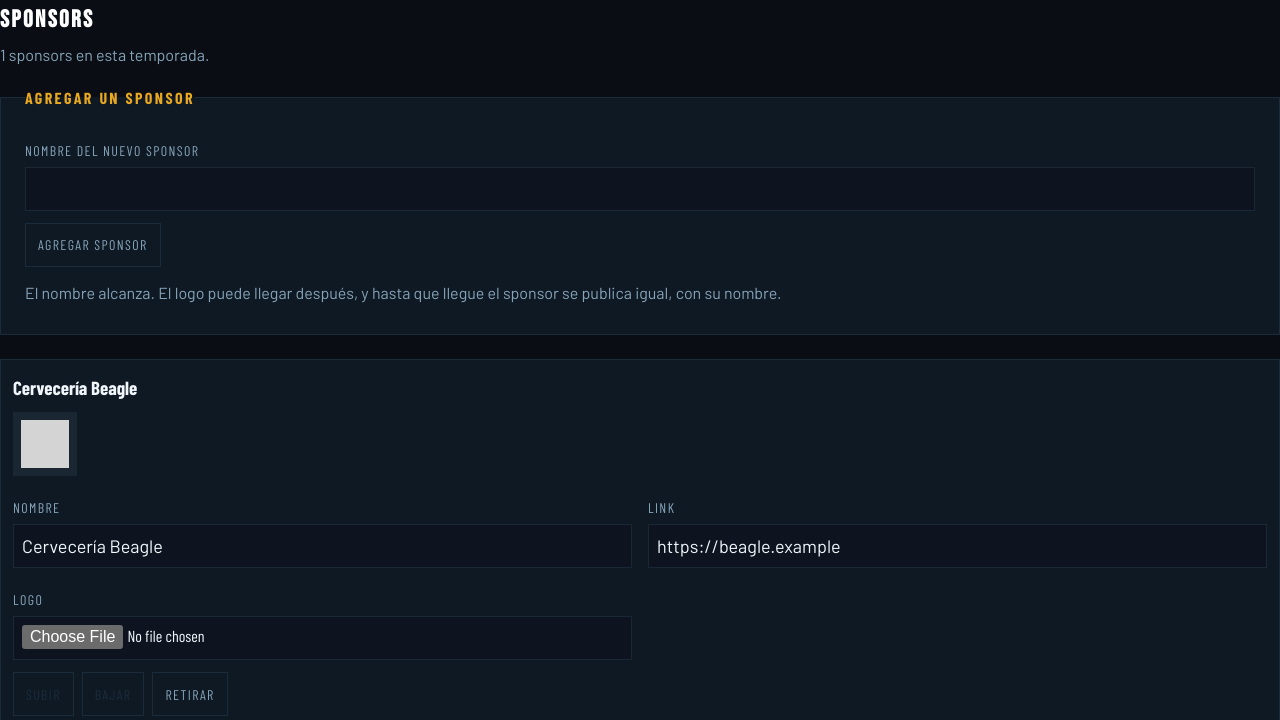
Test case: SponsorsScreen › will not save a link that is not a link
The width and height of the screenshot is (1280, 720).
Replace the text in the field labelled "Link" with "beagle.example" at (958,546), box [648,524,1267,568]
(page scrolled)
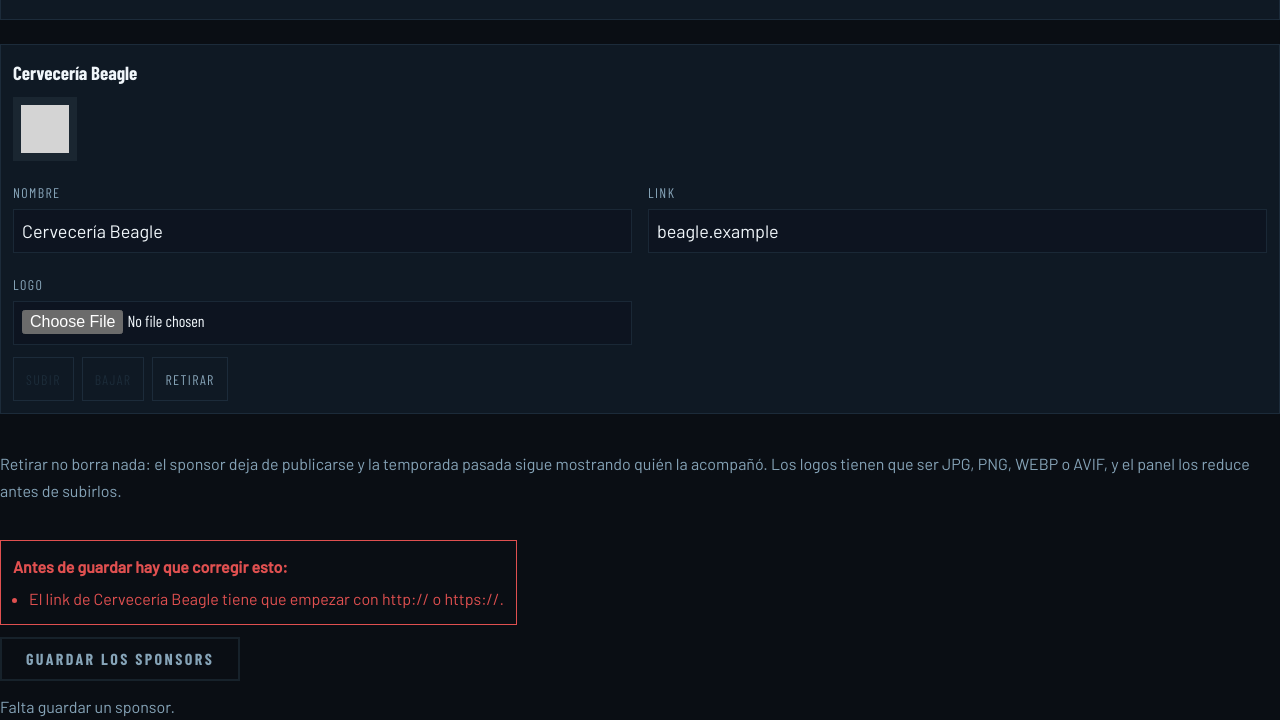
Expected: the list item "El link de Cervecería Beagle tiene que empezar con http:// o https://." is shown, [29,585,504,612]
Expected: the button "Guardar los sponsors" is disabled, [0,637,240,681]
